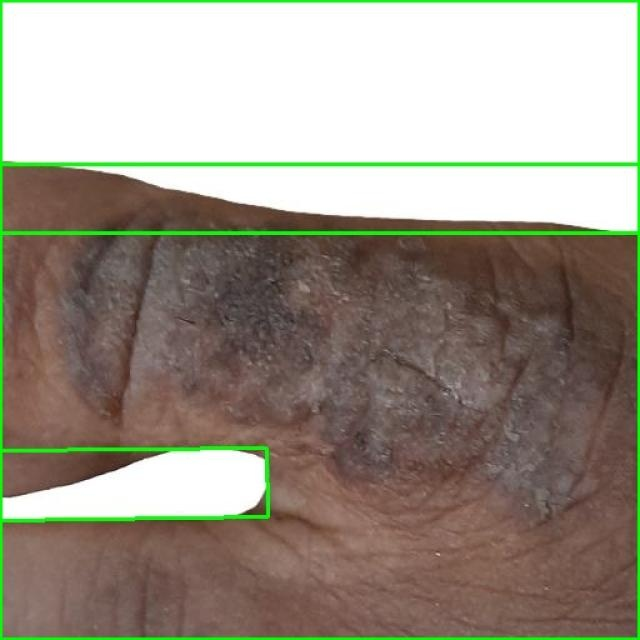Contact Dermatitis: (0, 164, 639, 639), (0, 0, 639, 232), (0, 448, 268, 520)
